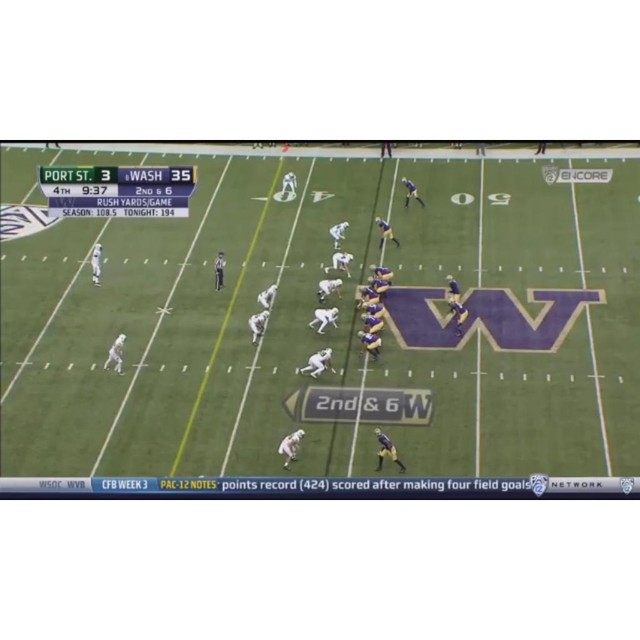american-football-player: (373, 427, 407, 473), (296, 348, 335, 378), (443, 293, 469, 337), (278, 428, 305, 470), (103, 334, 127, 375), (321, 252, 354, 279), (248, 309, 271, 346), (308, 307, 339, 334), (375, 216, 400, 249), (357, 329, 382, 361), (401, 178, 426, 210), (90, 243, 105, 286), (317, 278, 343, 302), (257, 284, 279, 312), (329, 221, 350, 250), (356, 284, 383, 306), (360, 312, 384, 335), (356, 299, 385, 318), (369, 264, 394, 285), (368, 276, 390, 299)
referee: (214, 251, 227, 291)
